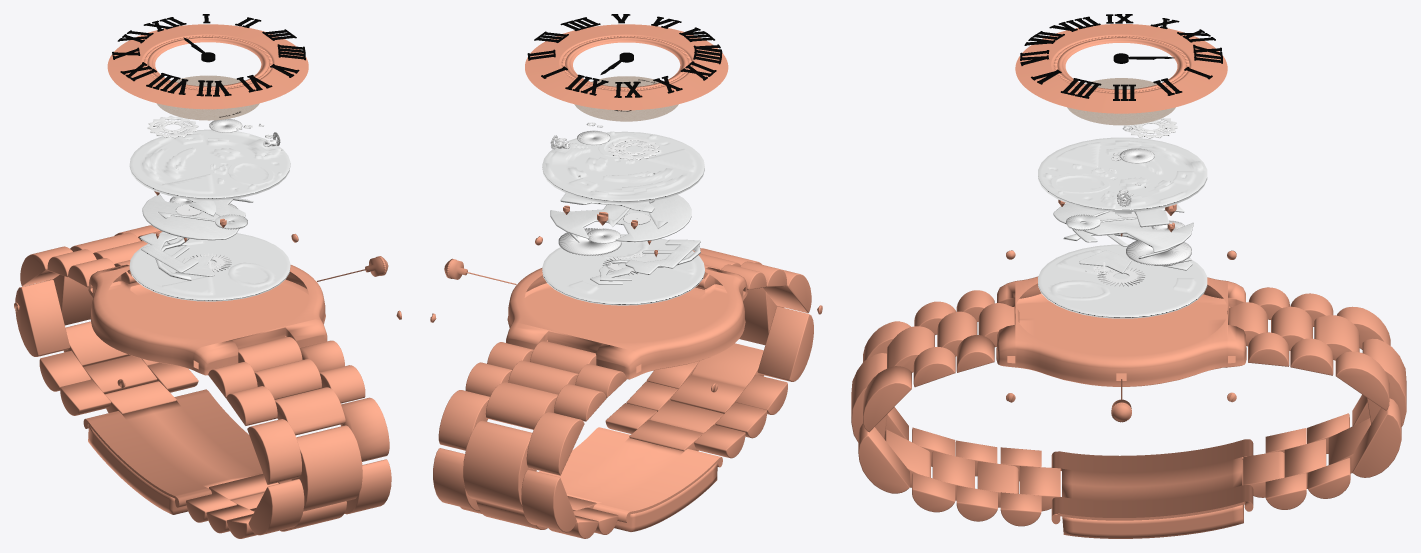
Rendered from roseline_cheng_copie 2.glb.
The picture shows the model from 3 angles, left to right: view 1: azimuth 30°, elevation 25°; view 2: azimuth 150°, elevation 25°; view 3: azimuth 270°, elevation 25°; orthographic projection. The views are drawn at different scales.
Visible parts, largest first — view 1: Cylinder.029, Cylinder.009, Circle.035, Circle.002, Circle, Circle.041, Circle.032, Plane.045, Cylinder.002, Circle.042, Plane.043, Circle.025; view 2: Cylinder.029, Cylinder.009, Circle.002, Circle.035, Circle, Circle.041, Circle.032, Plane.045, Circle.042, Plane.043, Circle.012, Circle.025 (+1 smaller); view 3: Cylinder.029, Cylinder.009, Circle, Circle.002, Circle.035, Circle.041, Circle.032, Plane.045, Circle.042, Cylinder.002, Circle.012, Plane.039 (+1 smaller).
Boxes of the visible parts, x1,y1,x2,y2 form: Cylinder.029: [15, 225, 391, 538]; Cylinder.009: [83, 389, 262, 514]; Circle.035: [129, 129, 290, 200]; Circle.002: [107, 24, 308, 109]; Circle: [88, 264, 327, 374]; Circle.041: [90, 279, 308, 375]; Circle.032: [129, 233, 290, 301]; Plane.045: [142, 194, 247, 240]; Cylinder.002: [238, 337, 302, 371]; Circle.042: [157, 75, 259, 120]; Plane.043: [139, 233, 198, 273]; Circle.025: [147, 115, 198, 138]; Cylinder.029: [433, 248, 813, 538]; Cylinder.009: [538, 427, 722, 531]; Circle.002: [525, 24, 728, 110]; Circle.035: [542, 131, 704, 203]; Circle: [506, 267, 747, 378]; Circle.041: [524, 283, 745, 379]; Circle.032: [542, 234, 704, 305]; Plane.045: [550, 194, 691, 242]; Circle.042: [574, 76, 678, 121]; Plane.043: [625, 239, 700, 274]; Circle.012: [558, 228, 621, 255]; Circle.025: [608, 137, 659, 160]; Cylinder.029: [851, 287, 1406, 526]; Cylinder.009: [1051, 439, 1253, 538]; Circle: [996, 276, 1246, 386]; Circle.002: [1015, 24, 1227, 113]; Circle.035: [1038, 137, 1207, 214]; Circle.041: [1000, 293, 1242, 386]; Circle.032: [1038, 244, 1207, 318]; Plane.045: [1053, 203, 1193, 252]; Circle.042: [1067, 78, 1175, 125]; Cylinder.002: [978, 303, 1019, 347]; Circle.012: [1126, 240, 1191, 265]; Plane.039: [1079, 250, 1131, 273].
Size of what is drawn, in the model's own units: 4.59 by 5.92 by 6.54.
6 materials, 2 textured.
